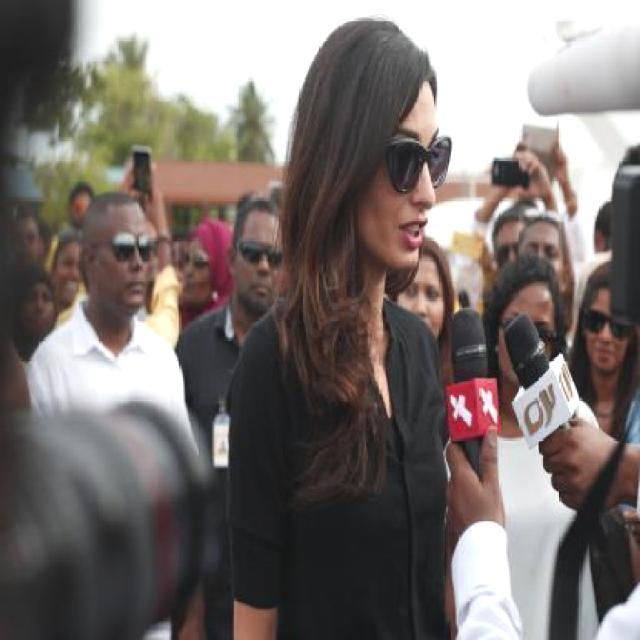face_nomask: (368, 142, 448, 263), (103, 232, 155, 306), (234, 242, 286, 303)
glasses: (232, 14, 468, 640), (358, 130, 458, 195), (84, 226, 165, 272), (579, 304, 638, 348), (230, 237, 288, 274)
hand_noglove: (530, 410, 635, 516), (429, 425, 513, 544)
head_nohelmet: (309, 4, 448, 111), (492, 248, 566, 309), (78, 184, 148, 224), (231, 188, 284, 226)
person: (25, 175, 202, 459)
